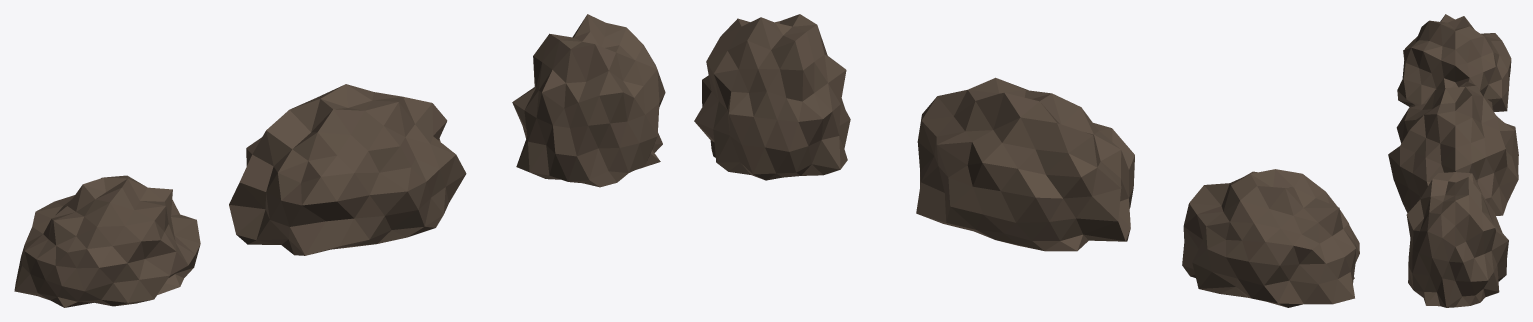
The model's file is bongkahan_dinding_goa_v001.glb.
3 views of the same model, side by side, from view 1: azimuth 30°, elevation 25°; view 2: azimuth 150°, elevation 25°; view 3: azimuth 270°, elevation 25° (orthographic). The views are drawn at different scales.
Visible parts, largest first — view 1: bongkahan_b, bongkahan_c, bongkahan_a; view 2: bongkahan_b, bongkahan_c, bongkahan_a; view 3: bongkahan_b, bongkahan_c, bongkahan_a.
Part boxes in pixels (bbox=[...]): bongkahan_b: bbox=[229, 84, 466, 255]; bongkahan_c: bbox=[512, 14, 665, 187]; bongkahan_a: bbox=[14, 175, 200, 307]; bongkahan_b: bbox=[916, 77, 1134, 251]; bongkahan_c: bbox=[694, 14, 850, 180]; bongkahan_a: bbox=[1182, 169, 1359, 307]; bongkahan_b: bbox=[1388, 81, 1518, 215]; bongkahan_c: bbox=[1406, 172, 1508, 307]; bongkahan_a: bbox=[1397, 14, 1511, 112].
Bounding box in the file's own units: 13.16 × 2.76 × 2.95.
